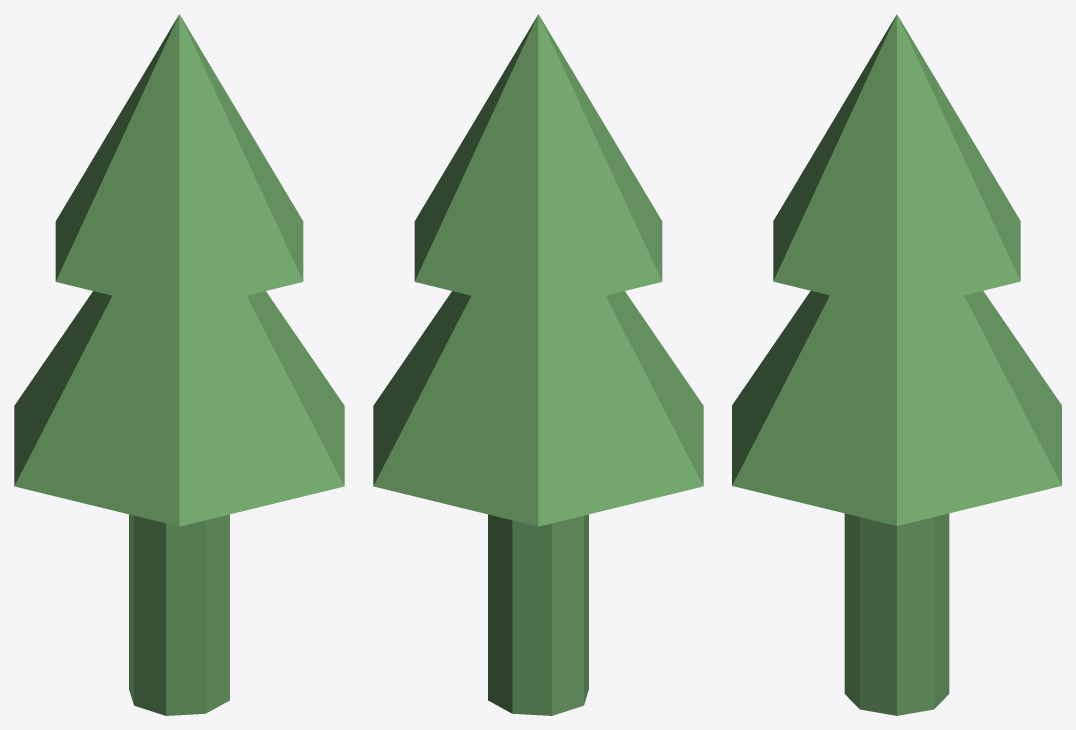
Rendered from OakTree.glb.
The picture shows the model from 3 angles, left to right: view 1: azimuth 30°, elevation 25°; view 2: azimuth 150°, elevation 25°; view 3: azimuth 270°, elevation 25°; orthographic projection.
Parts seen in each view (by area): view 1: filler_OakTree; view 2: filler_OakTree; view 3: filler_OakTree.
Part boxes in pixels (box(x1,y1,x2,y2)): filler_OakTree: box(14, 14, 344, 715); filler_OakTree: box(373, 14, 703, 715); filler_OakTree: box(732, 14, 1061, 715).
Bounding box in the file's own units: 1.6 × 3.15 × 1.39.
